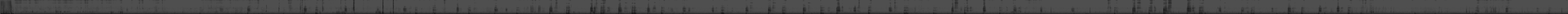Moan: (1163, 0, 1167, 14)
